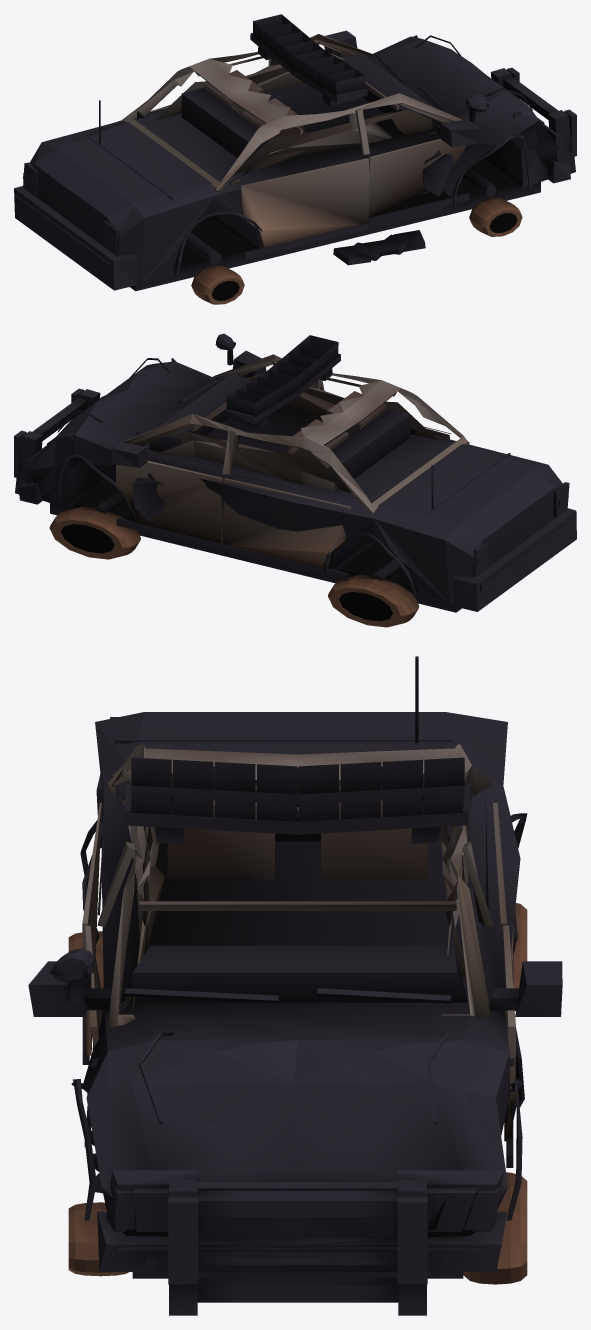
File: veh.police-sedan.burned.glb
3 views of the same model, one above another, from view 1: azimuth 30°, elevation 25°; view 2: azimuth 150°, elevation 25°; view 3: azimuth 270°, elevation 25° (orthographic). The views are drawn at different scales.
Parts seen in each view (by area): view 1: body, wheelRL, wheelFL; view 2: body, wheelRR, wheelFR; view 3: body, wheelFR, wheelFL, wheelRR.
Part boxes in pixels (x1,y1,x2,y2): body: [14, 14, 576, 291]; wheelRL: [191, 266, 244, 304]; wheelFL: [469, 198, 522, 236]; body: [14, 333, 576, 612]; wheelRR: [328, 574, 419, 627]; wheelFR: [49, 507, 140, 559]; body: [28, 656, 562, 1315]; wheelFR: [463, 1172, 527, 1284]; wheelFL: [68, 1202, 128, 1276]; wheelRR: [513, 903, 527, 1011].
Bounding box in the file's own units: 5.05 × 1.82 × 2.42.
